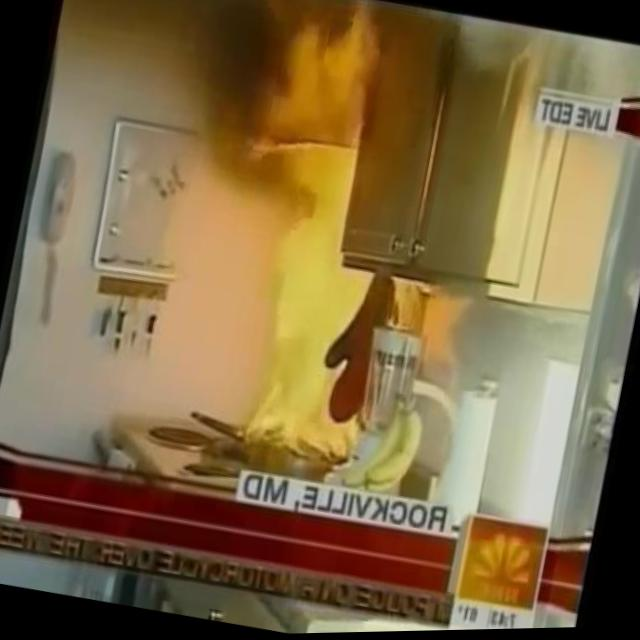fire: (187, 0, 430, 468)
